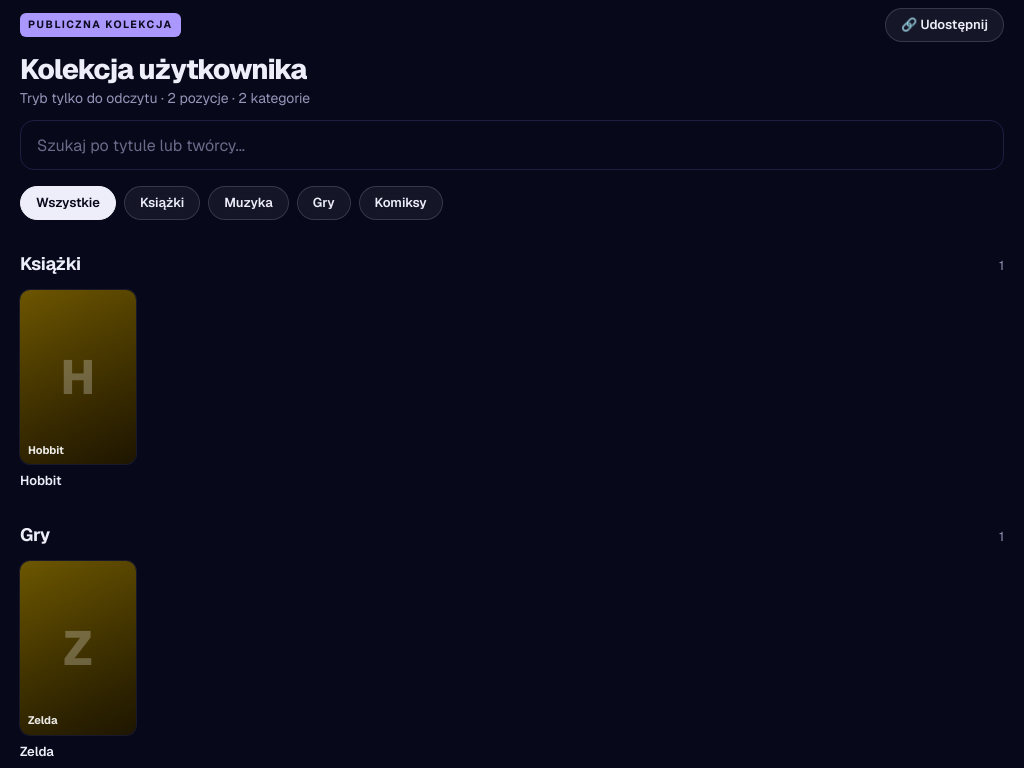
it: PublicCollectionView › filters by category and by search text
Expected: the heading "Hobbit" is shown, [20,472,61,489]
Click the tab "Gry": (324, 203) [297,186,351,220]
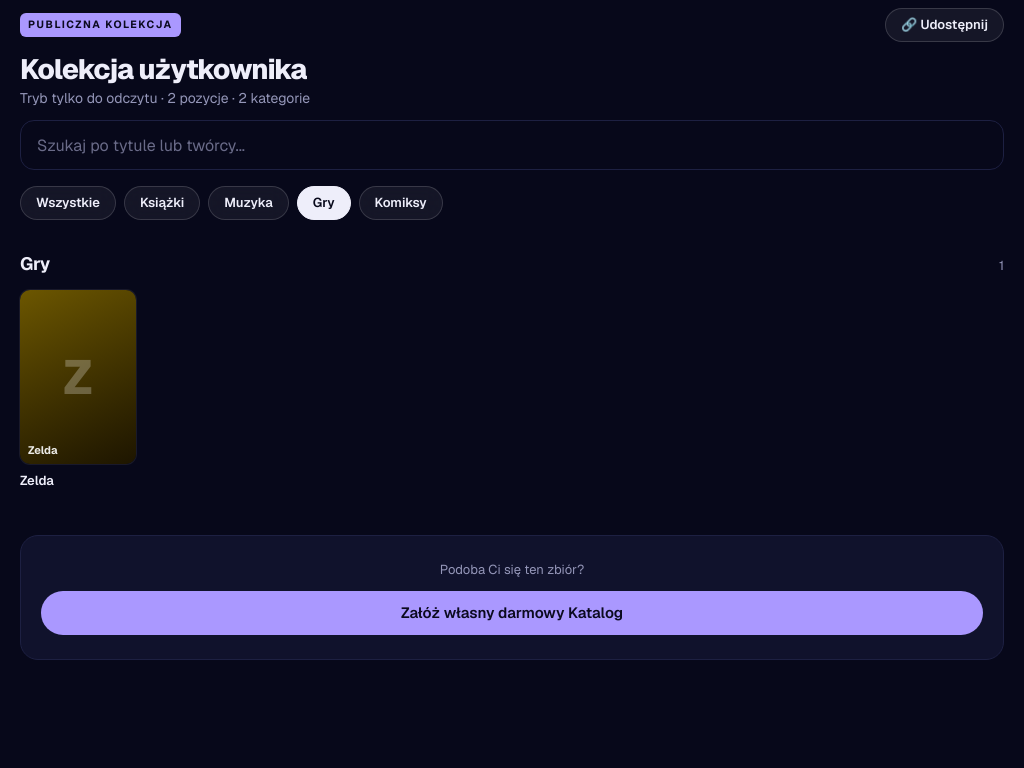
Expected: the heading "Zelda" is shown, [20,472,54,489]
Result: the link "Hobbit" is gone
Click the tab "Wszystkie": (68, 203) [20,186,116,220]
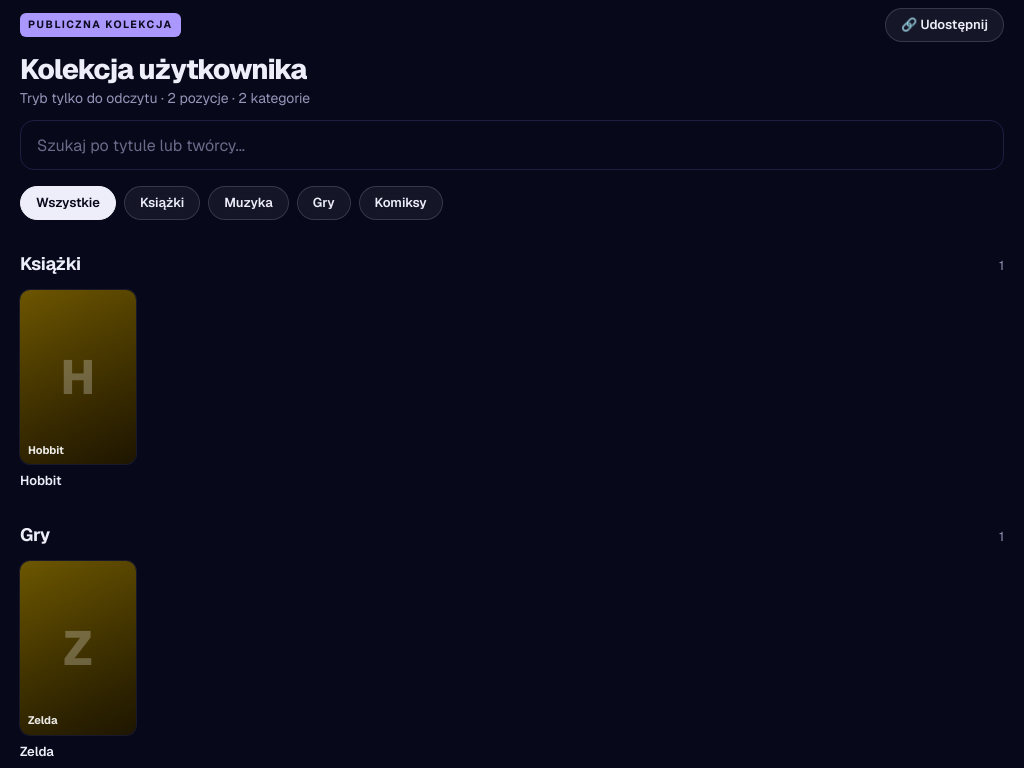
In the search field named "Szukaj w kolekcji": (512, 145) [20,120,1004,170], type "hob"
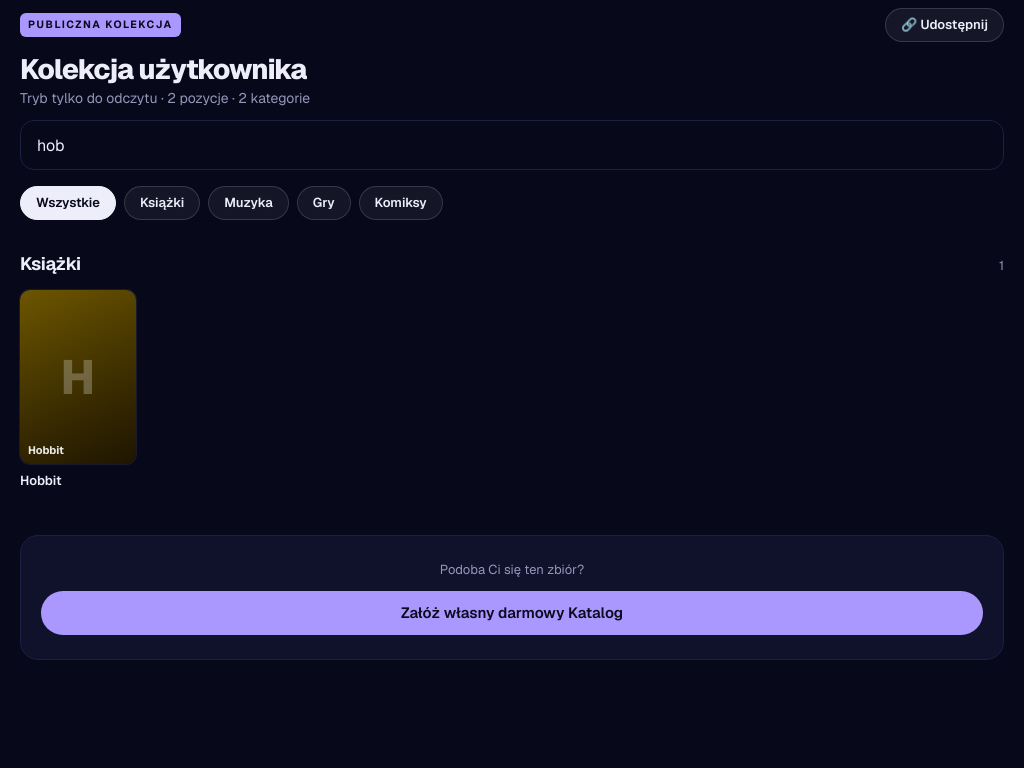
Result: the heading "Hobbit" is shown at [20,472,61,489]
Result: the link "Zelda" is gone
